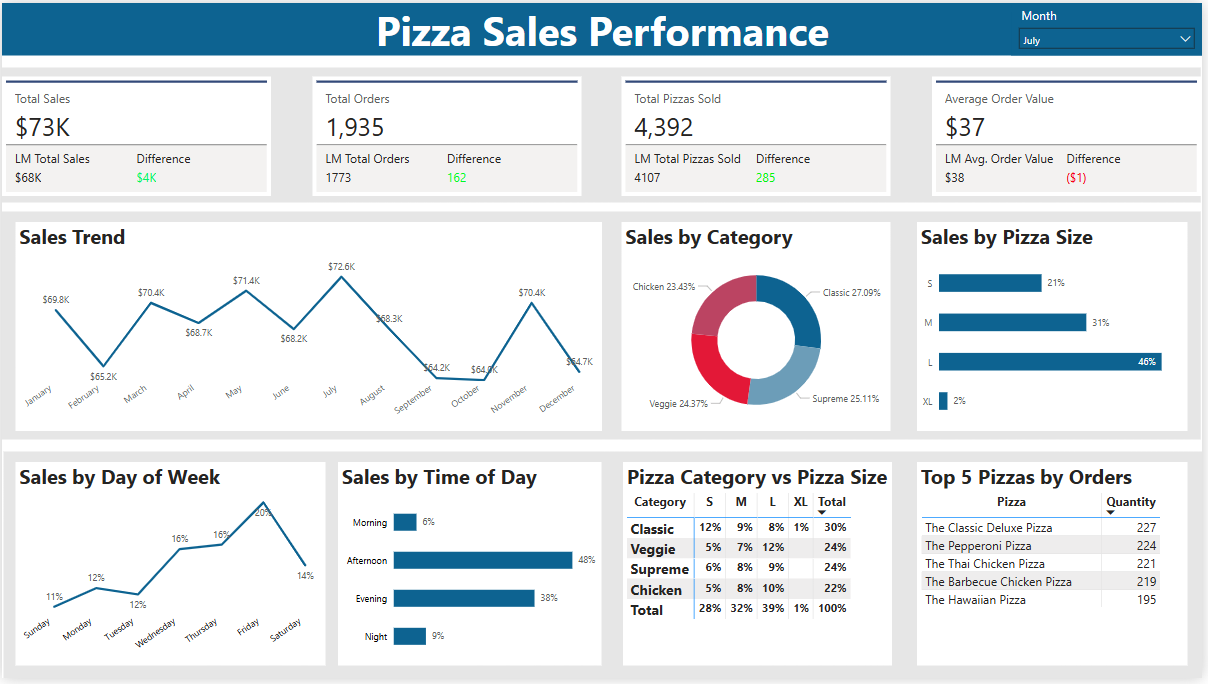

This screenshot's page, from the dashboard's own definition file:
{"tool":"powerbi","page":{"name":"Executive Summary","canvas":[1600,900],"ordinal":0},"visuals":[{"type":"cardVisual","title":"Revenue Card","fields":{"Data":["_Measures.AverageOrderValue"]},"box":[1239.8,97.1,358.5,159.3],"z":0,"group":"g1"},{"type":"shape","box":[2.5,597.5,1598.3,303.7],"z":0},{"type":"cardVisual","title":"Revenue Card","fields":{"Data":["_Measures.Total Pizzas Sold"]},"box":[826.6,97.1,358.5,159.3],"z":1000,"group":"g1"},{"type":"shape","box":[0,278.8,1598.3,304],"z":1000},{"type":"shape","title":"Pizza Sales Performance","box":[0,0,1600.8,69.7],"z":2000},{"type":"cardVisual","title":"Revenue Card","fields":{"Data":["_Measures.Total Orders"]},"box":[413.3,97.1,358.5,159.3],"z":2000,"group":"g1"},{"type":"cardVisual","title":"Revenue Card","fields":{"Data":["_Measures.Total Sales"]},"box":[0,97.1,358.5,159.3],"z":3000,"group":"g1"},{"type":"lineChart","title":"Sales Trend","fields":{"Category":["Calender.Month"],"Y":["_Measures.TotalSales"]},"box":[17.4,291.3,781.7,278.8],"z":3000},{"type":"donutChart","title":"Sales by Category","fields":{"Category":["pizza_types.category"],"Y":["_Measures.TotalSales"]},"box":[826.6,291.3,358.5,278.8],"z":4000},{"type":"clusteredBarChart","title":"Sales by Pizza Size","fields":{"Category":["pizza_size.size"],"Y":["Divide(_Measures.Total Sales, ScopedEval(_Measures.Total Sales, []))"]},"box":[1219.9,291.3,361,278.8],"z":5000},{"type":"barChart","title":"Sales by Time of Day","fields":{"Category":["order_hour_segment.order_hour_segment"],"Y":["Divide(_Measures.Total Sales, ScopedEval(_Measures.Total Sales, []))"]},"box":[448.2,612.5,351,271.4],"z":6000,"group":"g2"},{"type":"lineChart","title":"Sales by Day of Week","fields":{"Y":["Divide(_Measures.Total Sales, ScopedEval(_Measures.Total Sales, []))"],"Category":["Calender.WeekdayName"]},"box":[17.5,612.5,413.3,271.4],"z":7000,"group":"g2"},{"type":"slicer","fields":{"Values":["Calender.Month"]},"box":[1346.9,0,253.9,69.7],"z":8000},{"type":"shape","box":[0,85,1598.3,180],"z":9000},{"type":"group","id":"g1","title":"Group 1","box":[0,97.1,1598.3,159.3],"z":10000},{"type":"pivotTable","title":"Pizza Category vs Pizza Size","fields":{"Columns":["pizza_size.size"],"Rows":["pizza_types.category"],"Values":["_Measures.Total Pizzas Sold"]},"box":[826.6,612.5,358.5,271.4],"z":11000,"group":"g2"},{"type":"tableEx","title":"Top 5 Pizzas by Orders","fields":{"Values":["pizza_types.name","Calender.Top5Pizza"]},"box":[1220,612.5,361,271.4],"z":12000,"group":"g2"},{"type":"group","id":"g2","title":"Group 2","box":[17.5,612.5,1562.5,272.5],"z":12001}]}

Visuals, with their boxes in screenshot pixels (x1, y1, x2, y2), scaled from the page's 1600x900 canvas onto the 1208x684 screenshot:
"Revenue Card" cardVisual: box(936, 74, 1207, 195)
shape: box(2, 454, 1207, 683)
"Revenue Card" cardVisual: box(624, 74, 895, 195)
shape: box(0, 212, 1207, 443)
"Pizza Sales Performance" shape: box(0, 0, 1207, 53)
"Revenue Card" cardVisual: box(312, 74, 583, 195)
"Revenue Card" cardVisual: box(0, 74, 271, 195)
"Sales Trend" lineChart: box(13, 221, 603, 433)
"Sales by Category" donutChart: box(624, 221, 895, 433)
"Sales by Pizza Size" clusteredBarChart: box(921, 221, 1194, 433)
"Sales by Time of Day" barChart: box(338, 466, 603, 672)
"Sales by Day of Week" lineChart: box(13, 466, 325, 672)
slicer - Calender.Month: box(1017, 0, 1207, 53)
shape: box(0, 65, 1207, 201)
"Group 1" group: box(0, 74, 1207, 195)
"Pizza Category vs Pizza Size" pivotTable: box(624, 466, 895, 672)
"Top 5 Pizzas by Orders" tableEx: box(921, 466, 1194, 672)
"Group 2" group: box(13, 466, 1193, 673)
